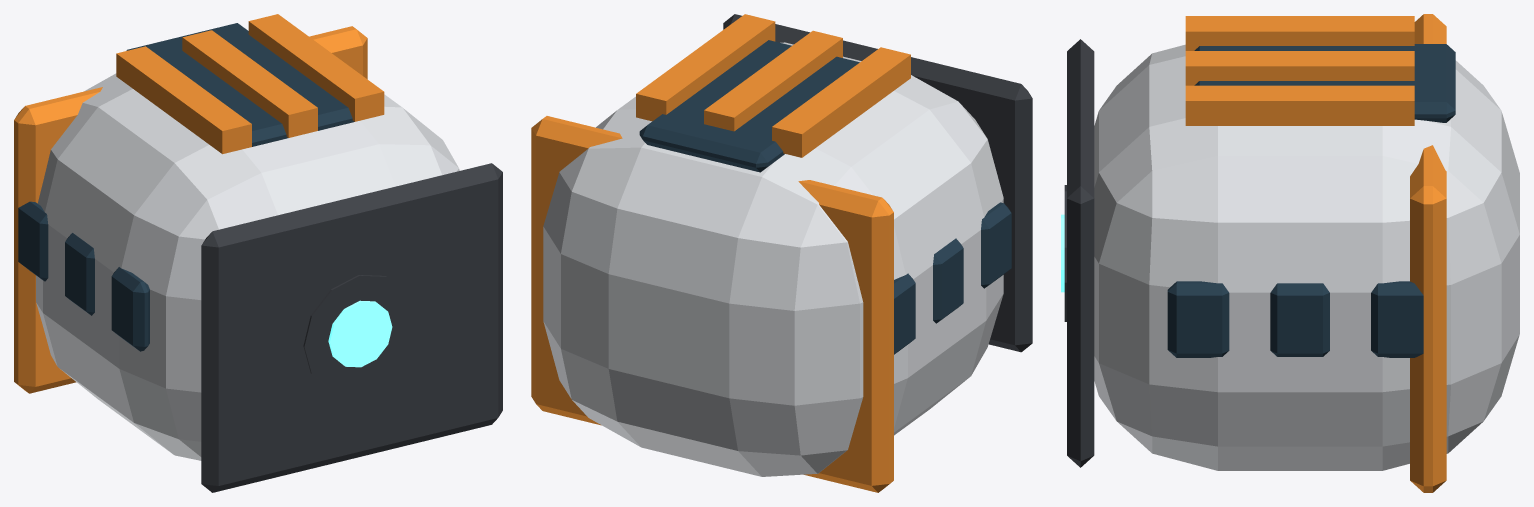
File: library.glb
3 renders of one model, left to right at view 1: azimuth 30°, elevation 25°; view 2: azimuth 150°, elevation 25°; view 3: azimuth 270°, elevation 25°, orthographic. The views are drawn at different scales.
Visible parts, largest first — view 1: library; view 2: library; view 3: library.
Boxes of the visible parts, x1,y1,x2,y2 form: library: [14, 14, 502, 492]; library: [531, 14, 1032, 492]; library: [1061, 14, 1519, 492].
Bounding box in the file's own units: 0.95 × 0.89 × 1.
